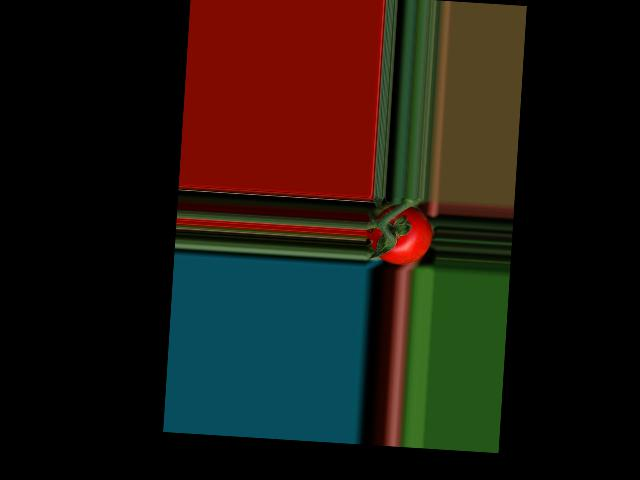tomato: (365, 202, 433, 266)
